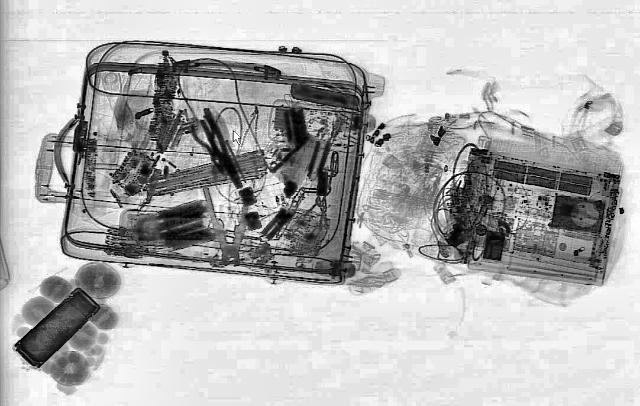Pliers: (200, 185, 252, 265), (197, 110, 249, 190), (188, 115, 228, 175)
